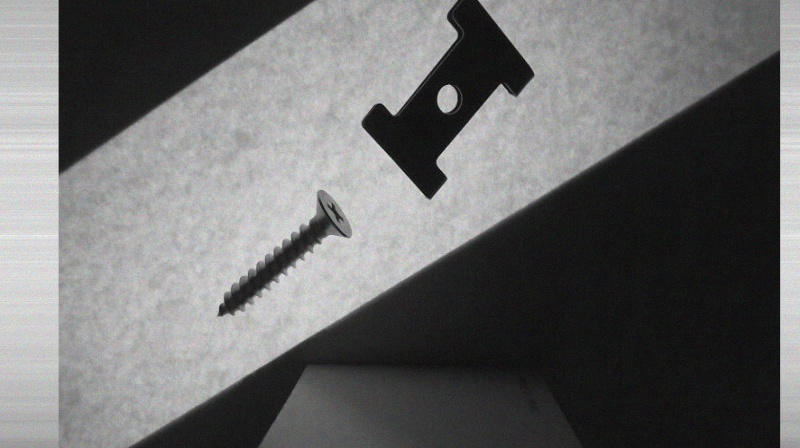O002: (361, 0, 536, 201)
S001: (214, 186, 354, 321)
